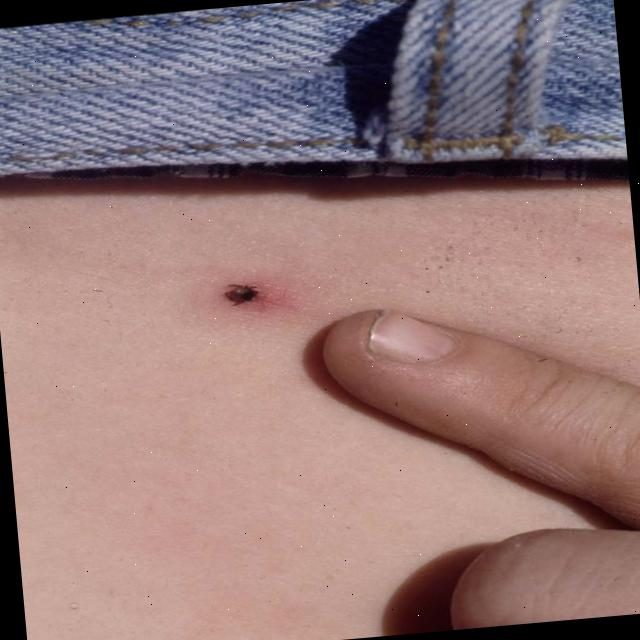kene: (206, 263, 307, 328)
